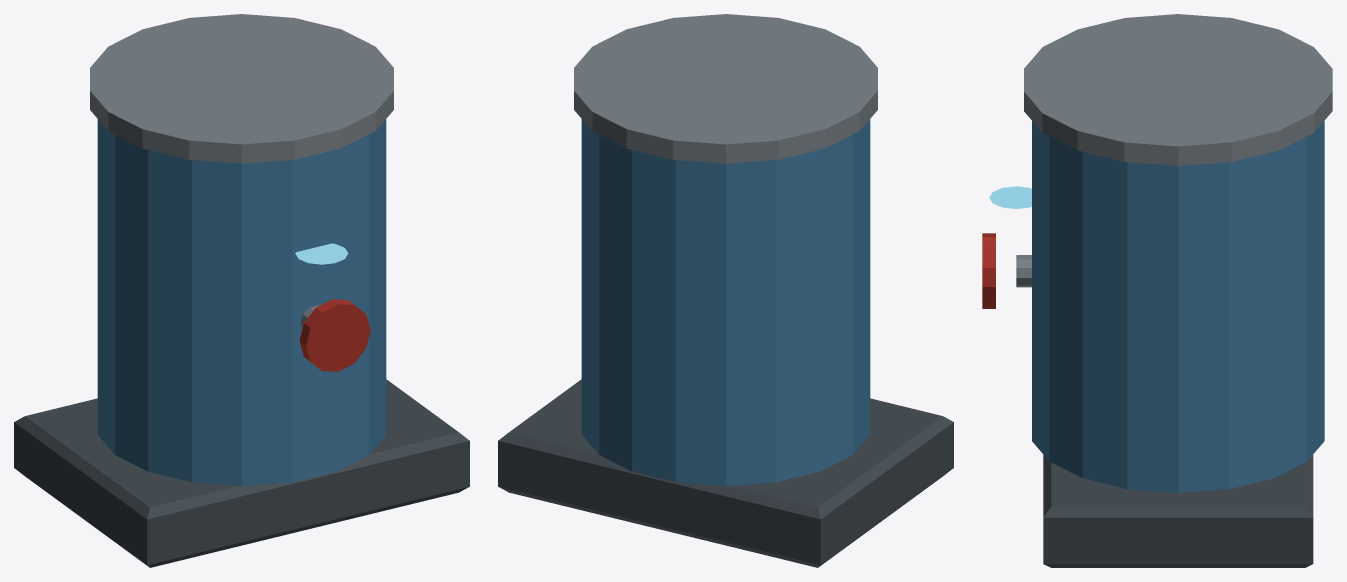
The model's file is spring.fbx.
3 views of the same model, side by side, from view 1: azimuth 30°, elevation 25°; view 2: azimuth 150°, elevation 25°; view 3: azimuth 270°, elevation 25° (orthographic).
Visible parts, largest first — view 1: spring; view 2: spring; view 3: spring.
Part boxes in pixels (left/top/right/bottom): spring: left=14, top=14, right=469, bottom=567; spring: left=498, top=14, right=953, bottom=567; spring: left=982, top=14, right=1332, bottom=567.
Bounding box in the file's own units: 1.4 × 1.68 × 1.3.
